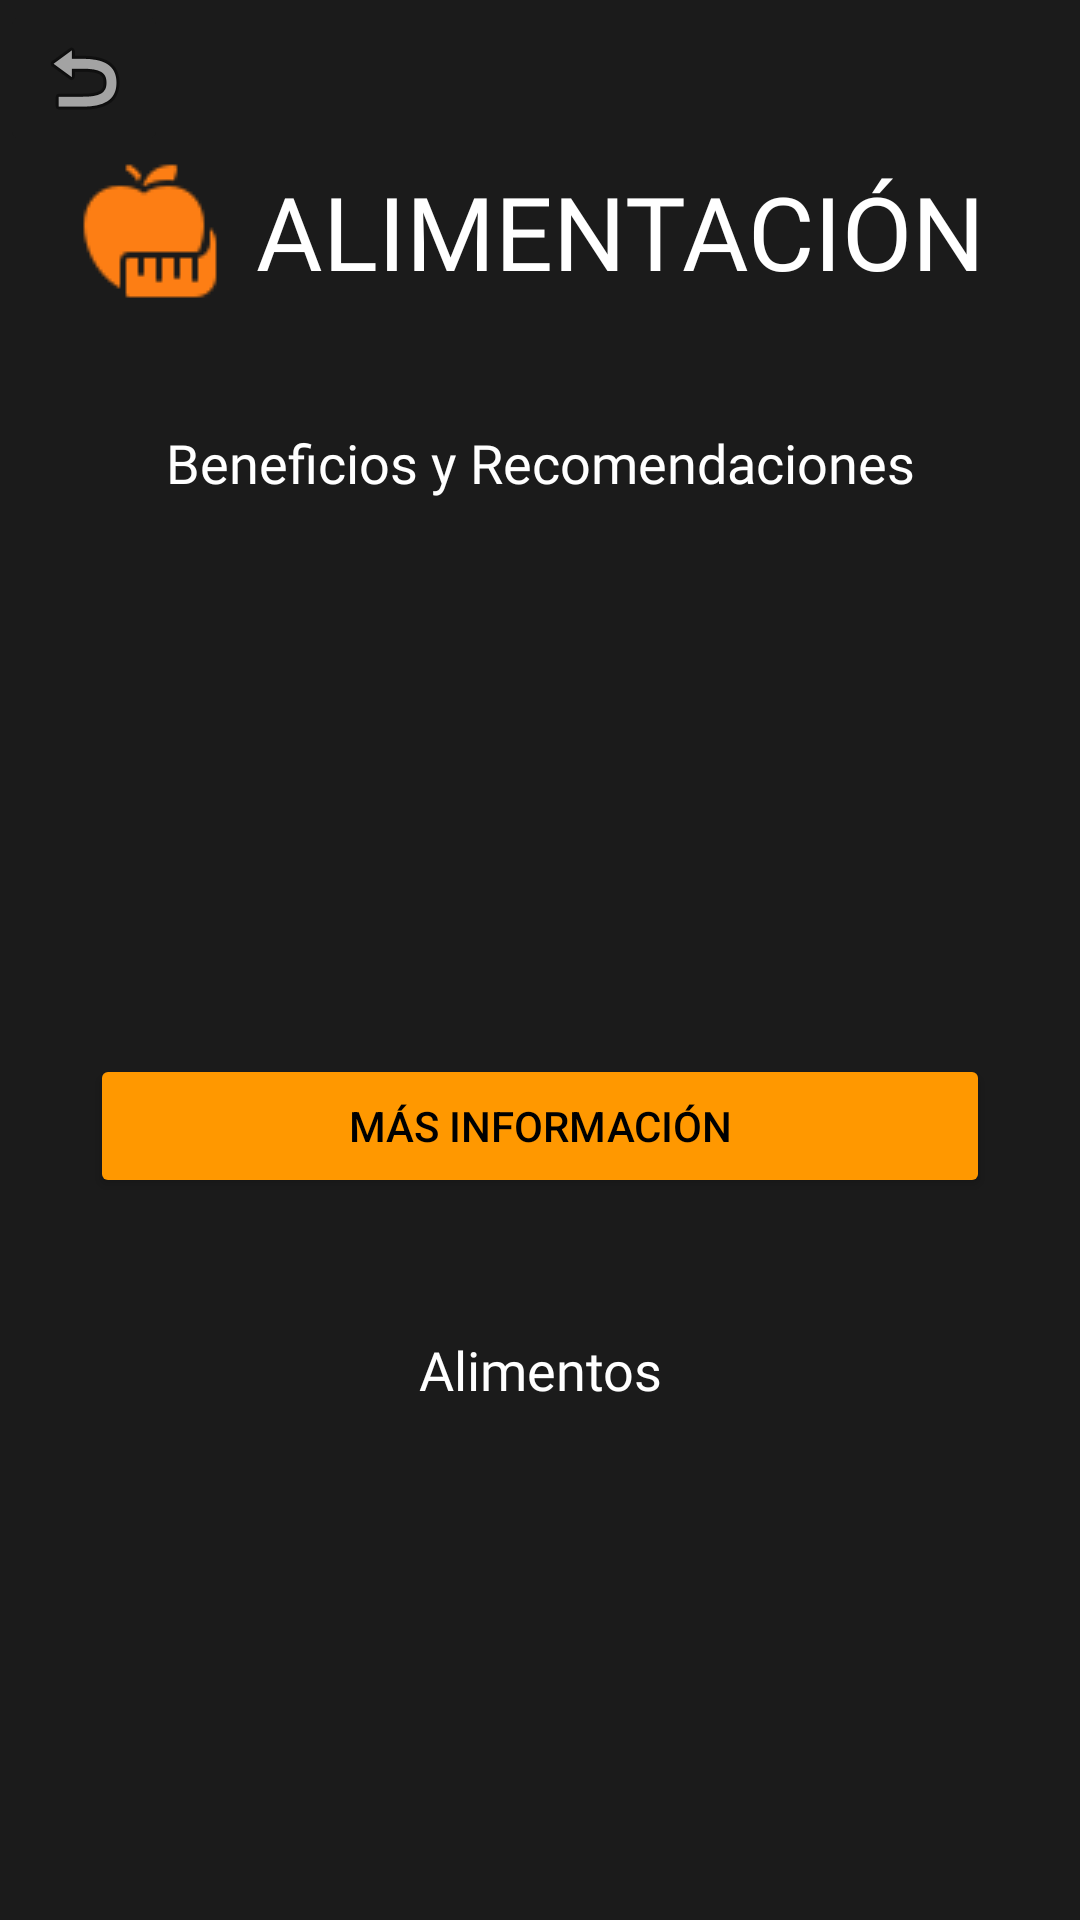

Screen size 1080 × 1920. Icon name, then its box in pixels as (x1, y1, x2, y2):
healthy eating: (83, 164, 217, 298)
volver: (54, 50, 117, 107)
